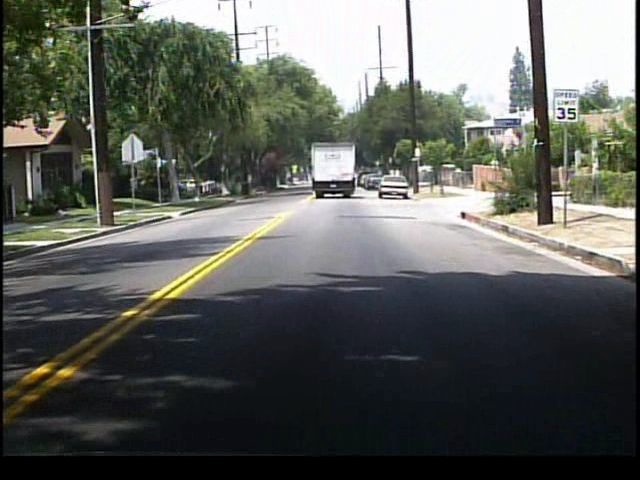person: (453, 164, 463, 190)
